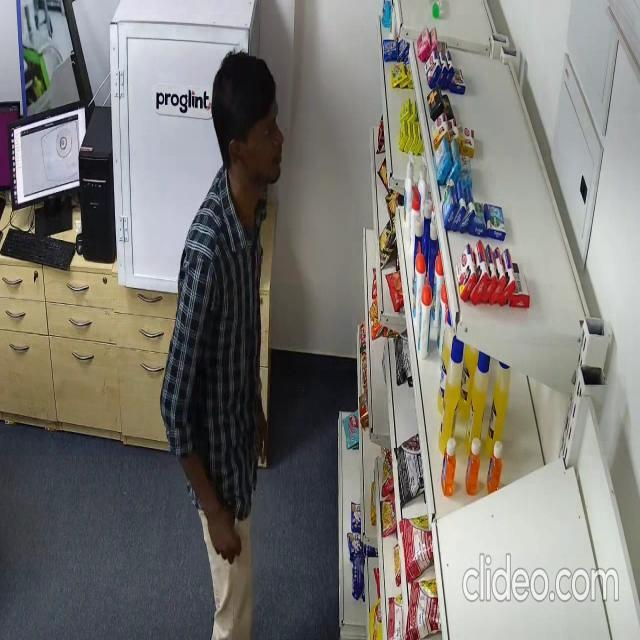Shoplifting: (163, 49, 288, 640)
